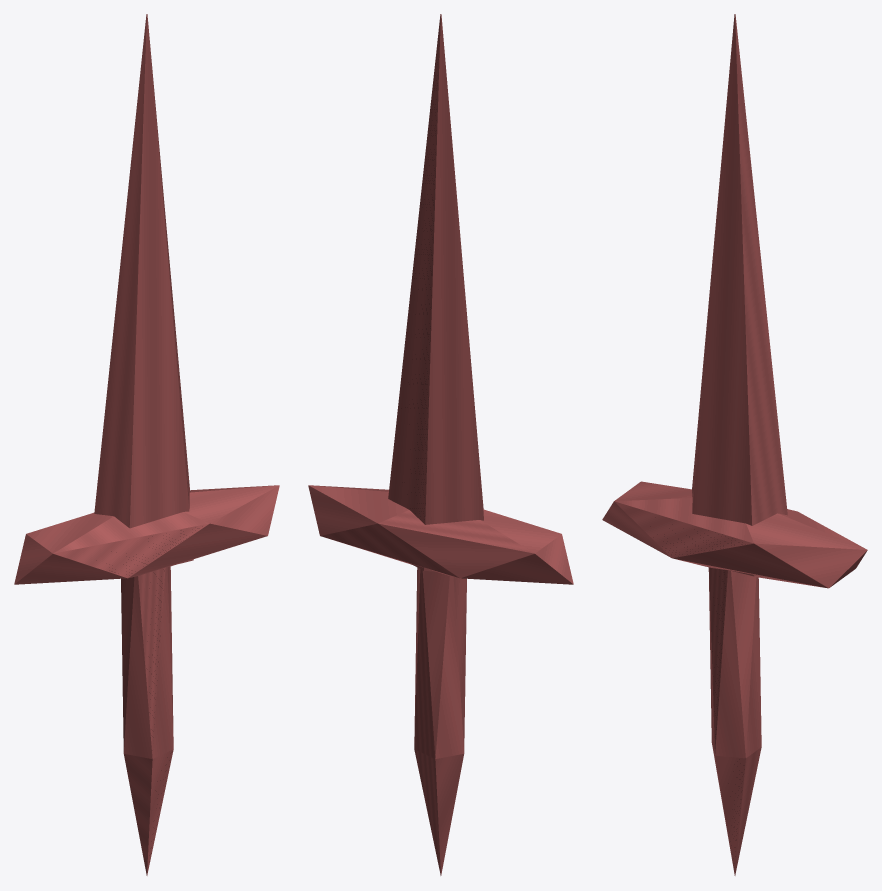
File: pierce.glb
3 views of the same model, side by side, from view 1: azimuth 30°, elevation 25°; view 2: azimuth 150°, elevation 25°; view 3: azimuth 330°, elevation 25° (orthographic).
Visible parts, largest first — view 1: gear_pierce; view 2: gear_pierce; view 3: gear_pierce.
Boxes of the visible parts, box(x1,y1,x2,y2) form: gear_pierce: box(14, 14, 279, 875); gear_pierce: box(308, 14, 573, 875); gear_pierce: box(602, 14, 867, 875).
Bounding box in the file's own units: 0.3578 × 1.11 × 0.1021.
Materials: 1 (1 with a texture image).
